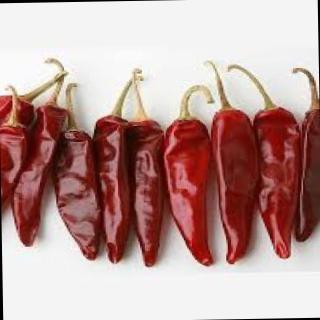Cabai Merah: (114, 114, 169, 269), (10, 109, 71, 243), (163, 115, 214, 268), (215, 107, 263, 264), (52, 124, 105, 265), (262, 107, 304, 263), (296, 109, 320, 248)
